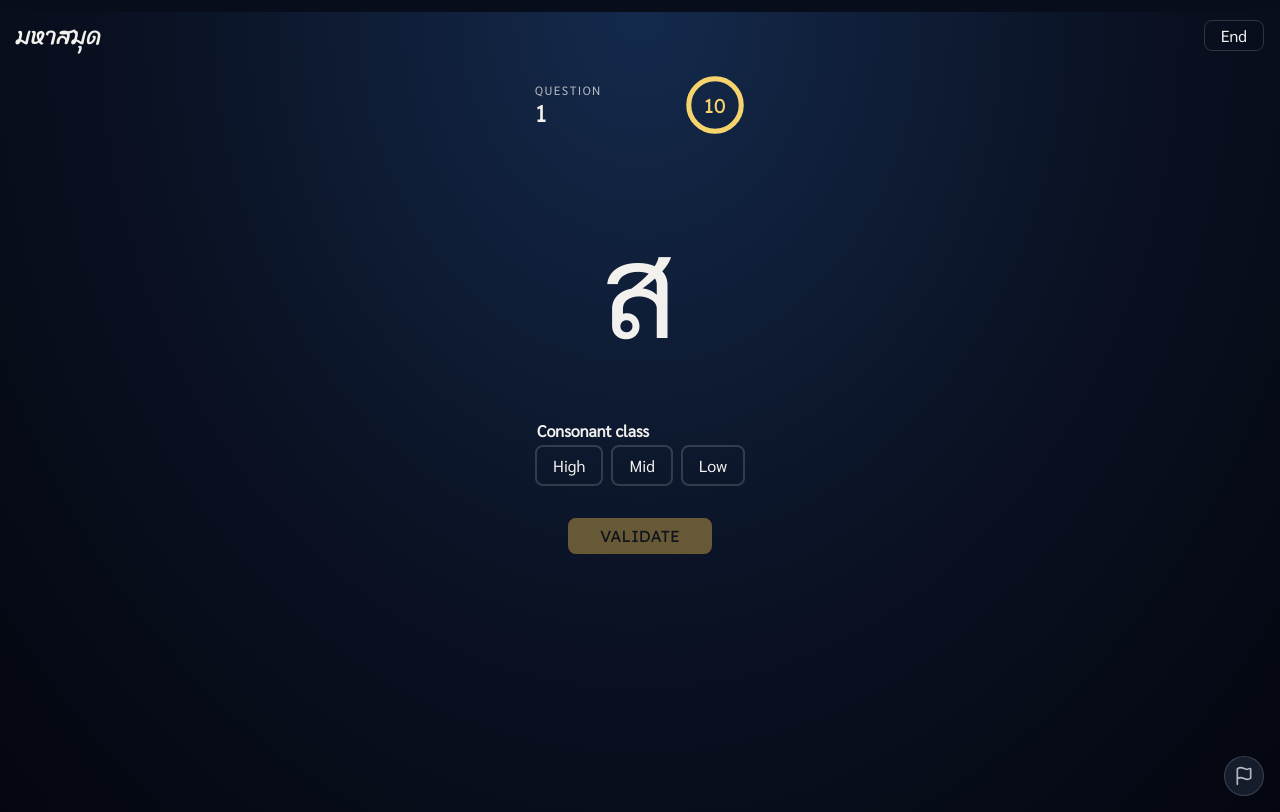
Scenario: ConsonantClassPage › with settings › corrects the class chosen but not validated once time is up
Click the radio button labelled "Mid". click: (642, 465)
box: [612,445,673,486]
Wait 10000 ms
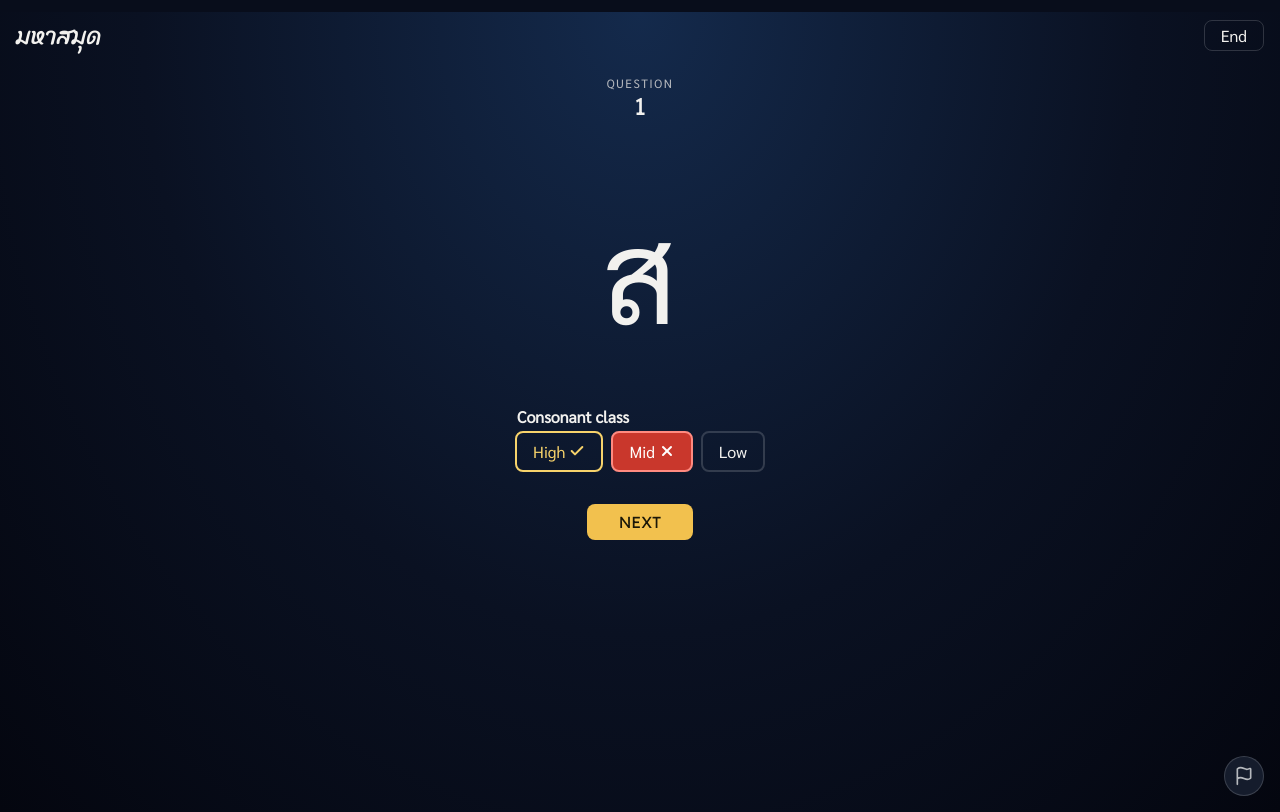
Now the button "Next" is shown, box [587,504,693,540]
